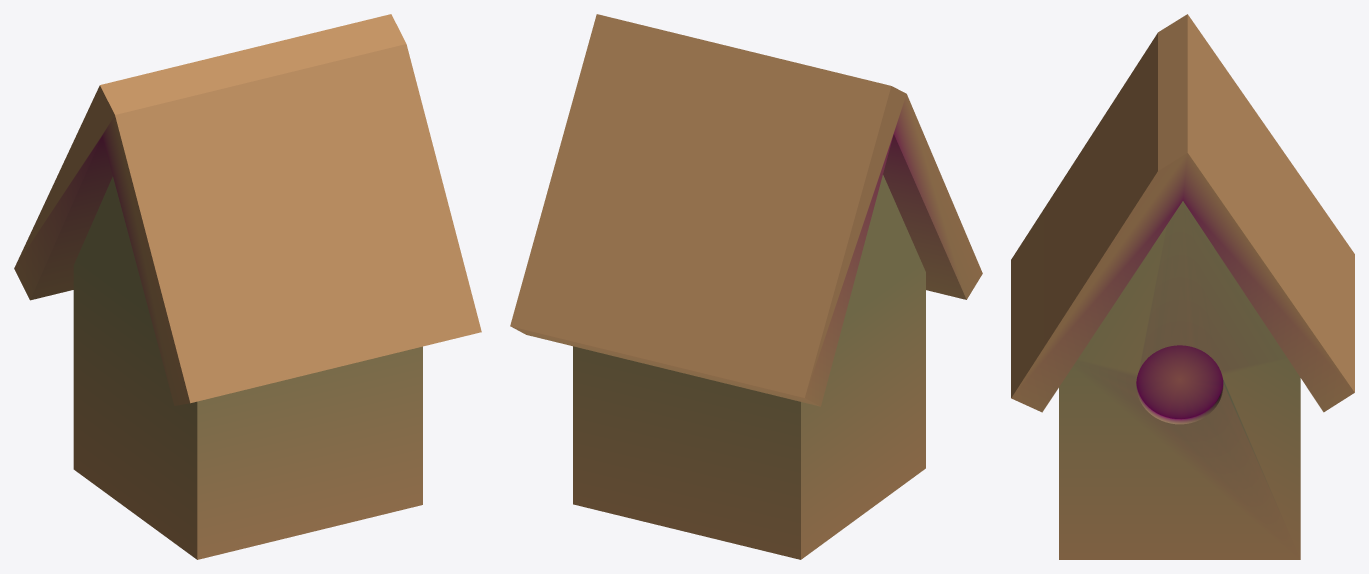
3 renders of one model, left to right at view 1: azimuth 30°, elevation 25°; view 2: azimuth 150°, elevation 25°; view 3: azimuth 270°, elevation 25°, orthographic. The views are drawn at different scales.
Visible parts, largest first — view 1: roof_boards, walls; view 2: roof_boards, walls; view 3: roof_boards, walls.
Boxes of the visible parts, x1,y1,x2,y2 form: roof_boards: (14,14,481,405); walls: (73,176,422,559); roof_boards: (510,14,982,406); walls: (573,175,925,559); roof_boards: (1011,14,1354,412); walls: (1059,201,1300,559).
Bounding box in the file's own units: 0.2107 × 0.3 × 0.2206.
